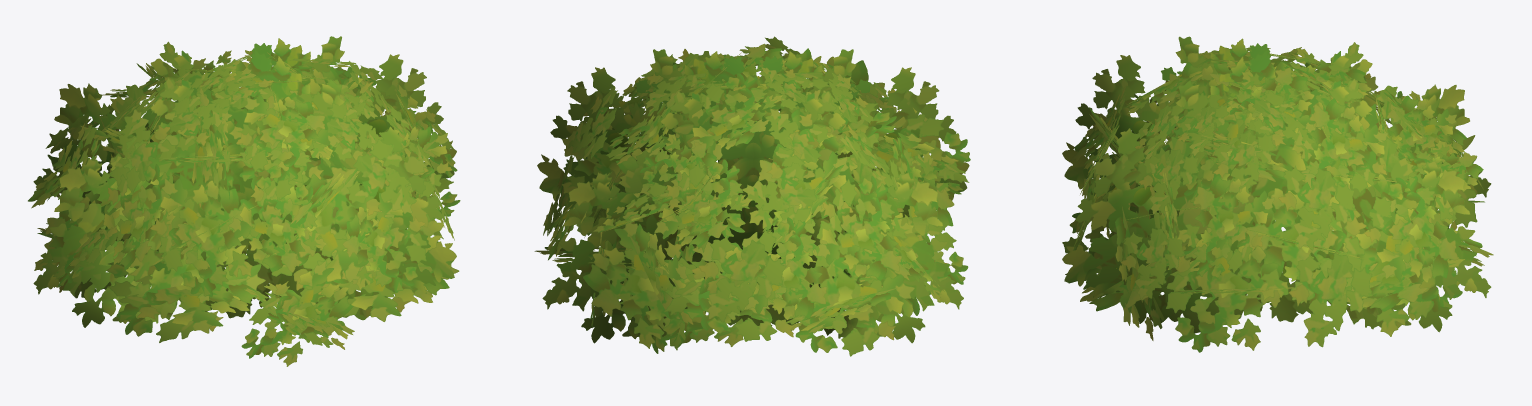
The model's file is guanmu_01.fbx.
The picture shows the model from 3 angles, left to right: view 1: azimuth 30°, elevation 25°; view 2: azimuth 150°, elevation 25°; view 3: azimuth 270°, elevation 25°; orthographic projection.
Parts seen in each view (by area): view 1: guanmu_01_LOD0; view 2: guanmu_01_LOD0; view 3: guanmu_01_LOD0.
Part boxes in pixels (box(x1,y1,x2,y2)): guanmu_01_LOD0: box(28, 36, 460, 366); guanmu_01_LOD0: box(534, 36, 970, 356); guanmu_01_LOD0: box(1062, 36, 1493, 352).
Size of what is drawn, in the model's own units: 128 by 81.9 by 118.
Materials: 1 (1 with a texture image).
